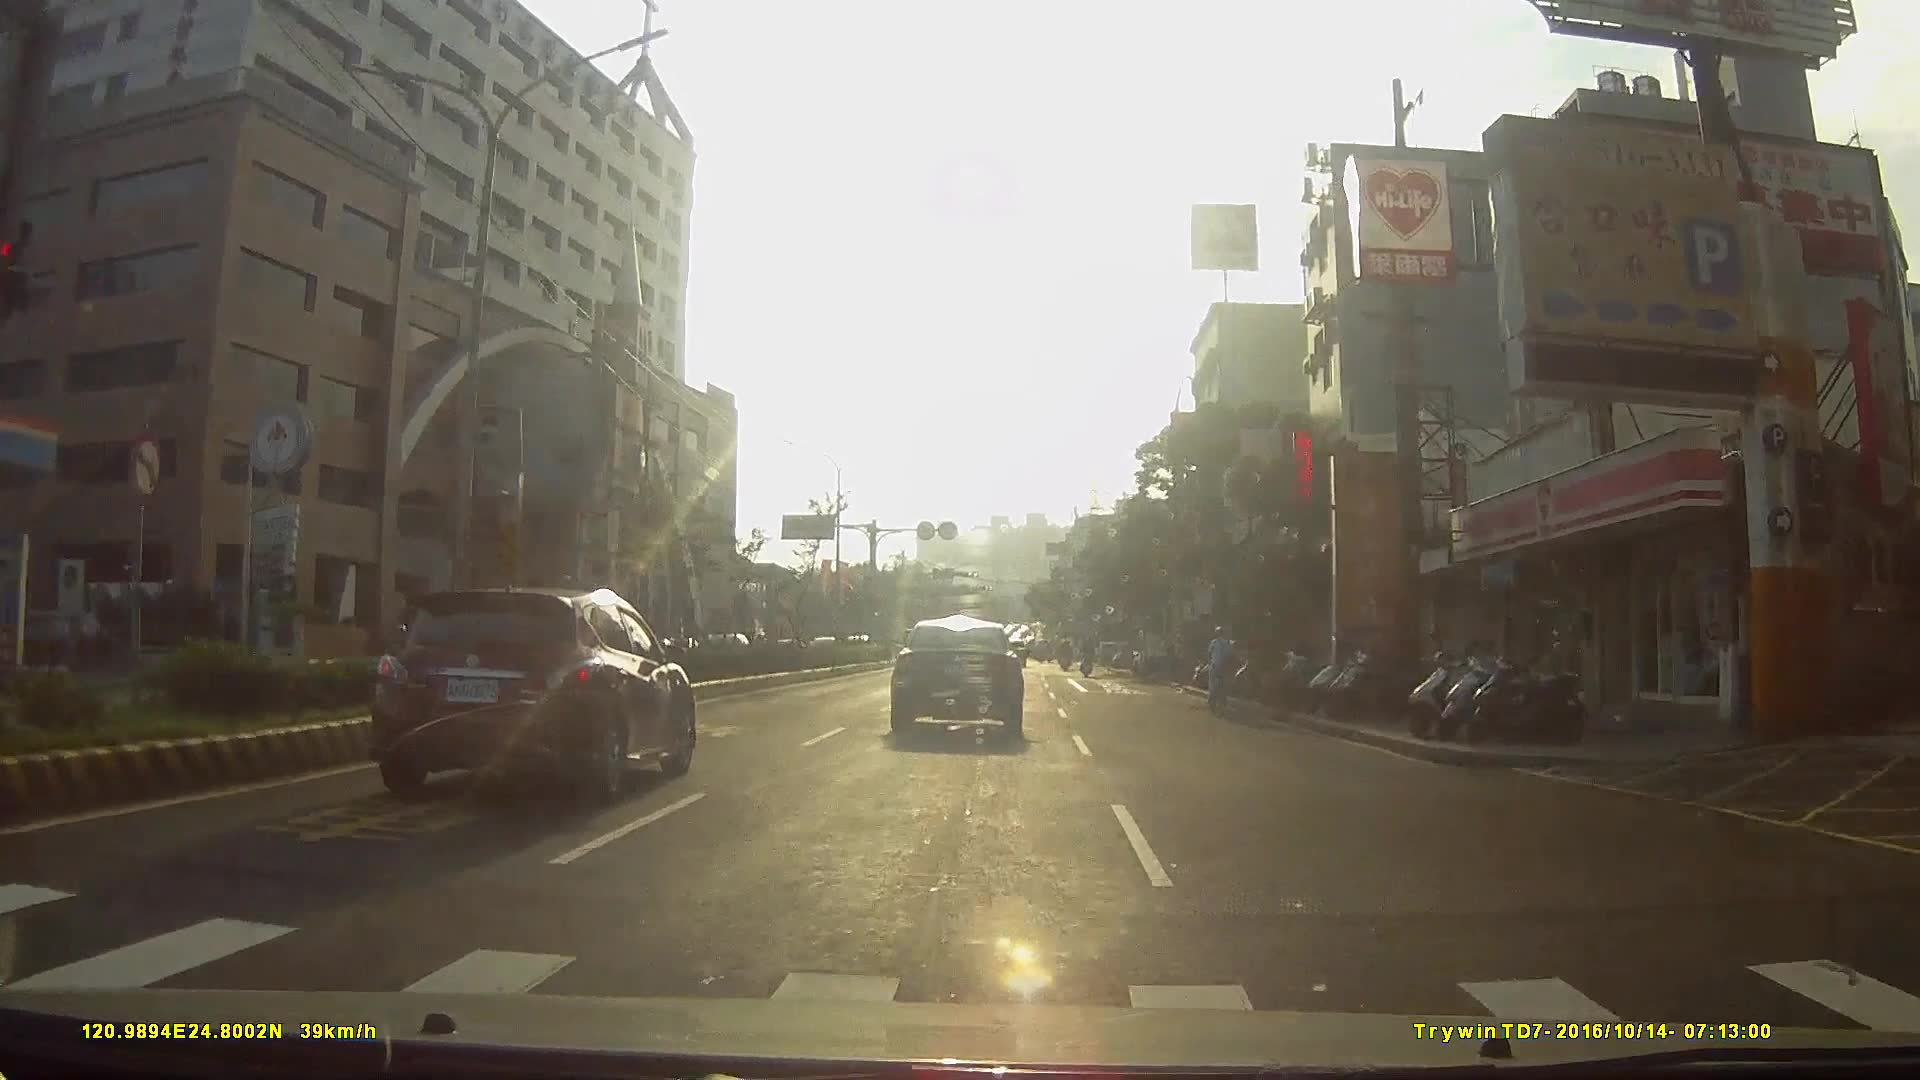rider: (1200, 627, 1238, 710)
vehicle: (357, 571, 712, 807), (888, 615, 1040, 749), (763, 607, 822, 662), (1132, 626, 1186, 680)
